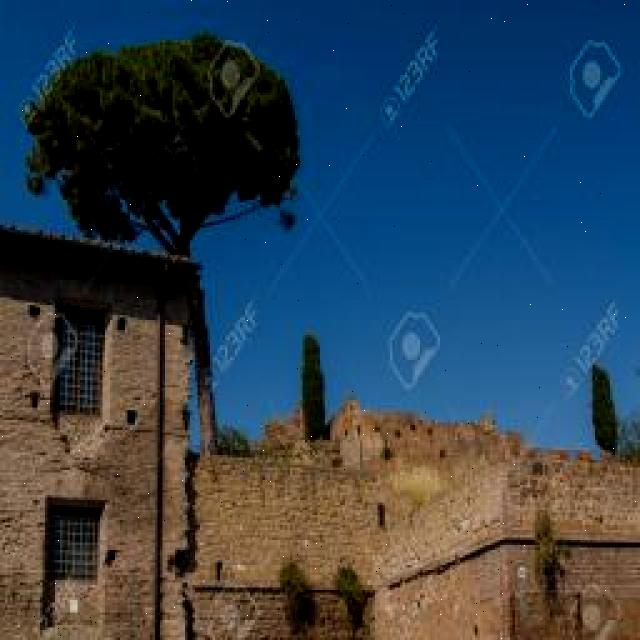crack: (190, 394, 640, 638)
dampness: (0, 401, 166, 635), (4, 410, 145, 488), (0, 437, 52, 524), (225, 590, 297, 637)
vegetation: (22, 29, 300, 258), (233, 430, 336, 472), (591, 364, 618, 457), (334, 564, 368, 637), (212, 423, 252, 456), (278, 560, 309, 598), (382, 441, 393, 461)
